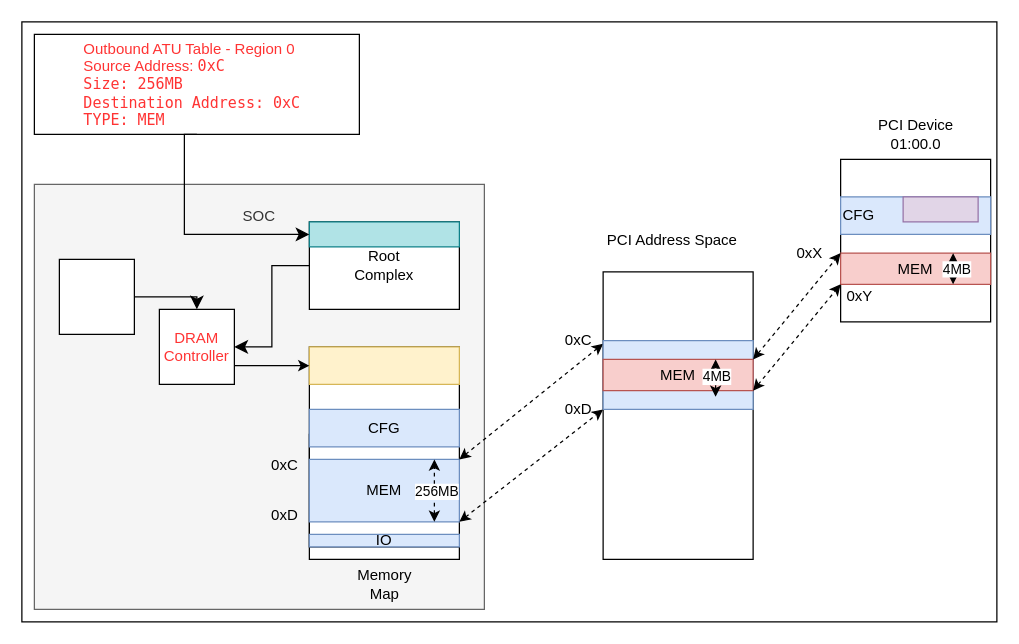
The diagram is 1019 pixels wide and 644 high, and some of its shapes have lost their labels. Here are the shapes that lost their labels. From the top down, the centre of each, then its label:
At (x=940, y=209): "BAR0=0xX".
At (x=383, y=234): "ATU".
At (x=96, y=296): "CPU".
At (x=383, y=365): "DDR".
